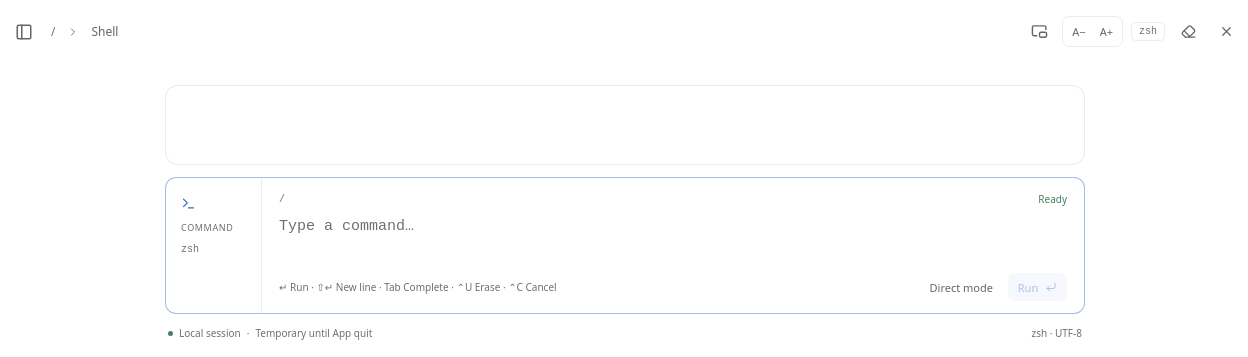
it: selects completions with arrows and confirms with Enter without submitting
The width and height of the screenshot is (1248, 357).
Later steps or results of the test are not shown.
Step 1. Type "ec" into the text box named "Terminal command" → (673,239), box [279,215,1067,263]
Step 2. Press Tab in the text box named "Terminal command", box [279,215,1067,263]
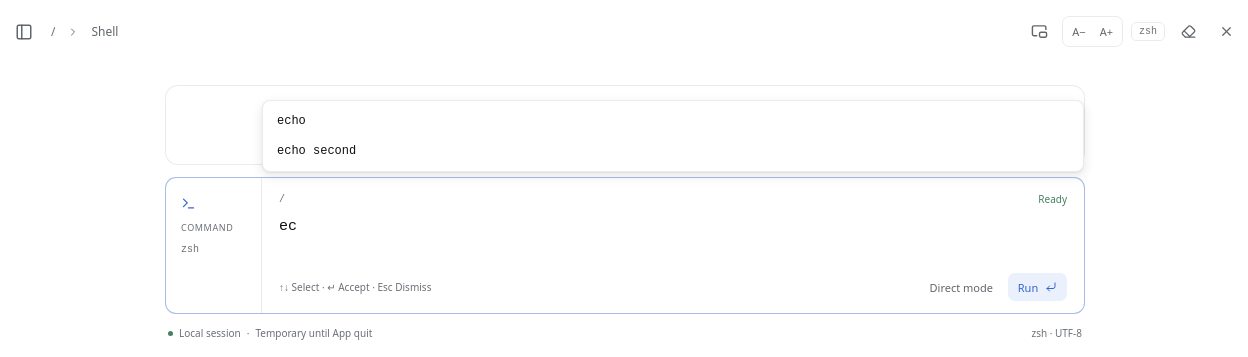
expect the list is shown: met, box [262,100,1084,172]
Step 3. Press ArrowDown in the text box named "Terminal command", box [279,215,1067,263]
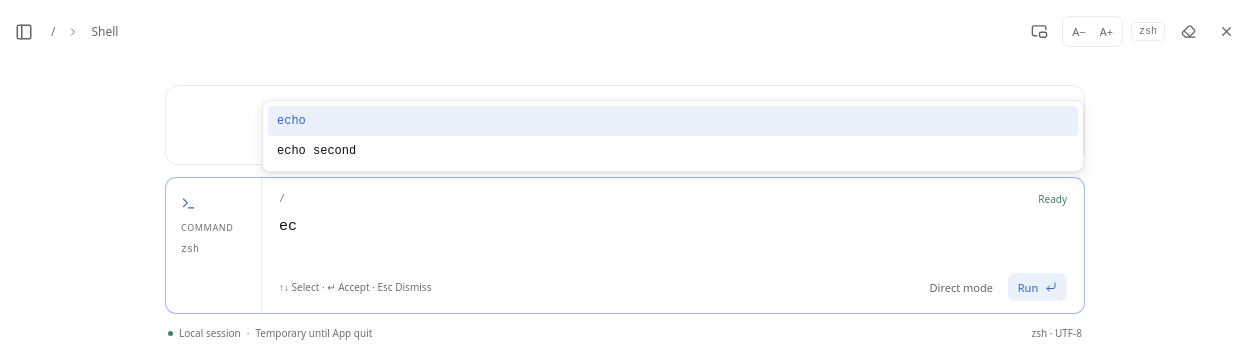
expect the option "echo" is selected: met, box [268,106,1078,136]
Step 4. Press ArrowDown in the text box named "Terminal command", box [279,215,1067,263]
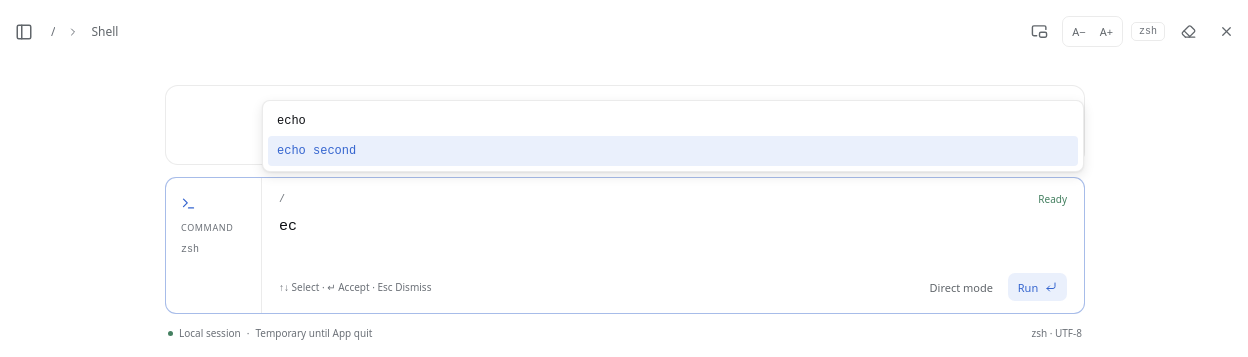
expect the option "echo second" is selected: met, box [268,136,1078,166]
Step 5. Press ArrowDown in the text box named "Terminal command", box [279,215,1067,263]
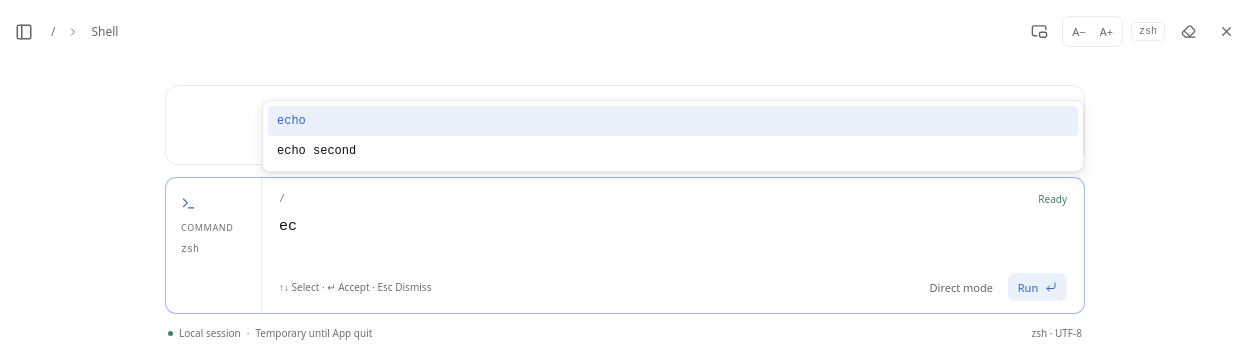
Step 6. Press ArrowUp in the text box named "Terminal command", box [279,215,1067,263]
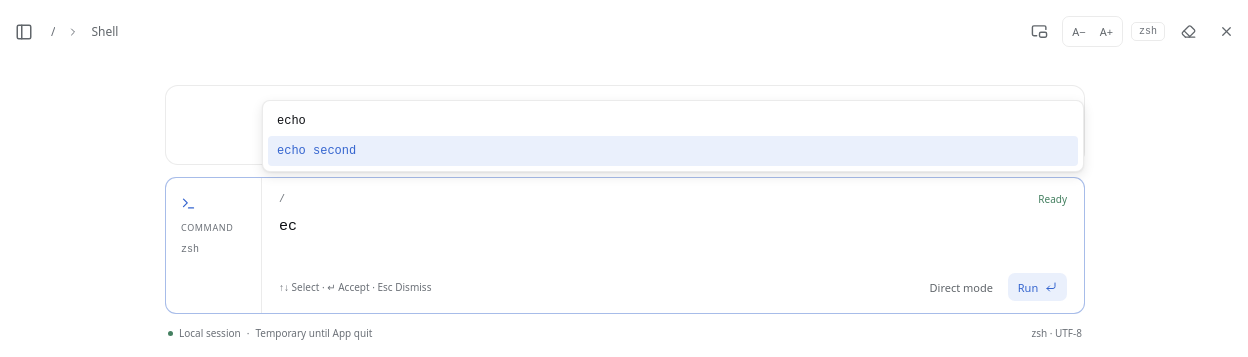
Step 7. Press Enter in the text box named "Terminal command", box [279,215,1067,263]
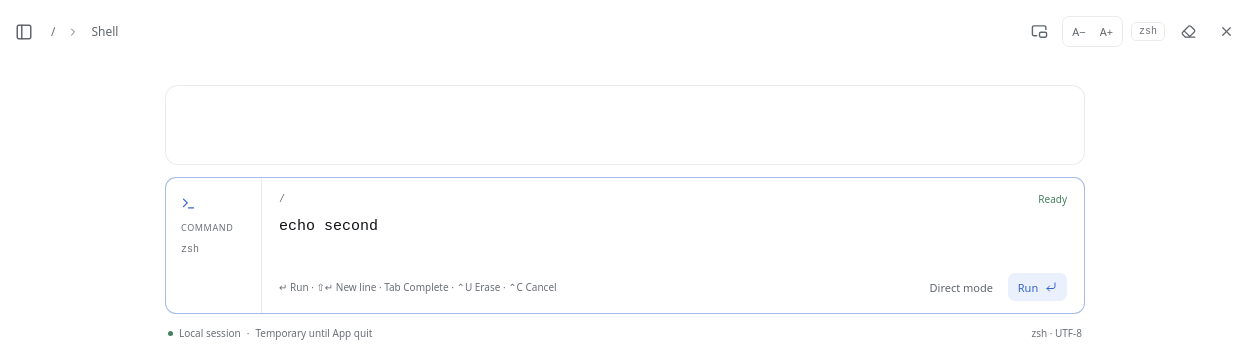
expect the text box named "Terminal command" holds "echo second": met, box [279,215,1067,263]
expect the list is gone: met
